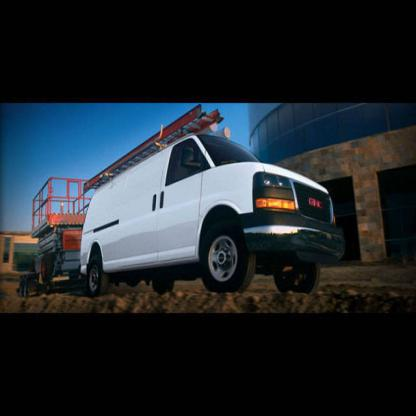Vehicle: (78, 131, 347, 299)
